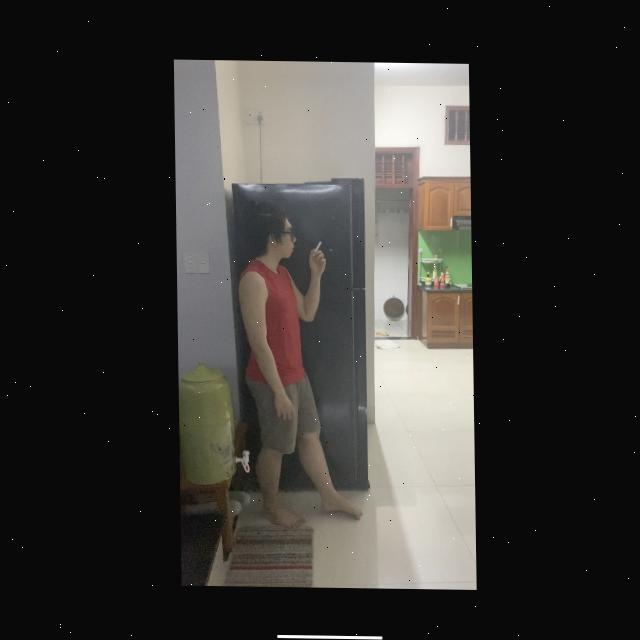cigarette: (312, 240, 320, 251)
